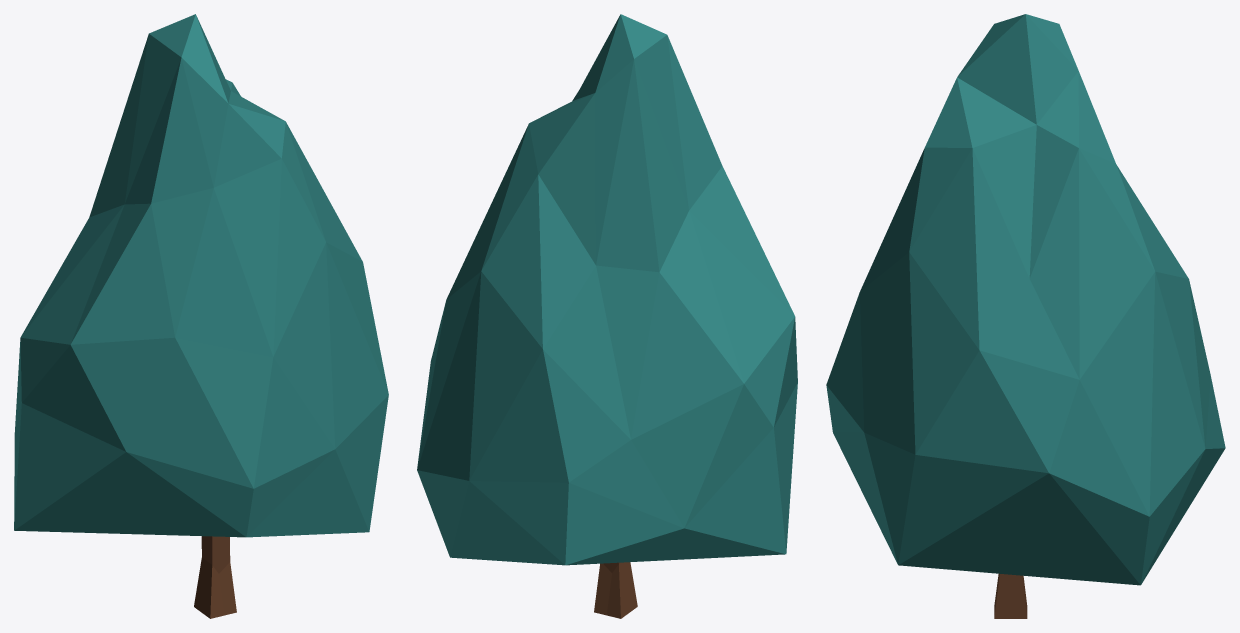
File: Tree_11_Blue.fbx
The picture shows the model from 3 angles, left to right: view 1: azimuth 30°, elevation 25°; view 2: azimuth 150°, elevation 25°; view 3: azimuth 270°, elevation 25°; orthographic projection.
Parts seen in each view (by area): view 1: Tree_11_Blue; view 2: Tree_11_Blue; view 3: Tree_11_Blue.
Boxes of the visible parts, x1,y1,x2,y2 form: Tree_11_Blue: [14, 14, 388, 618]; Tree_11_Blue: [417, 14, 797, 618]; Tree_11_Blue: [826, 14, 1225, 618].
Bounding box in the file's own units: 483 × 790 × 483.
